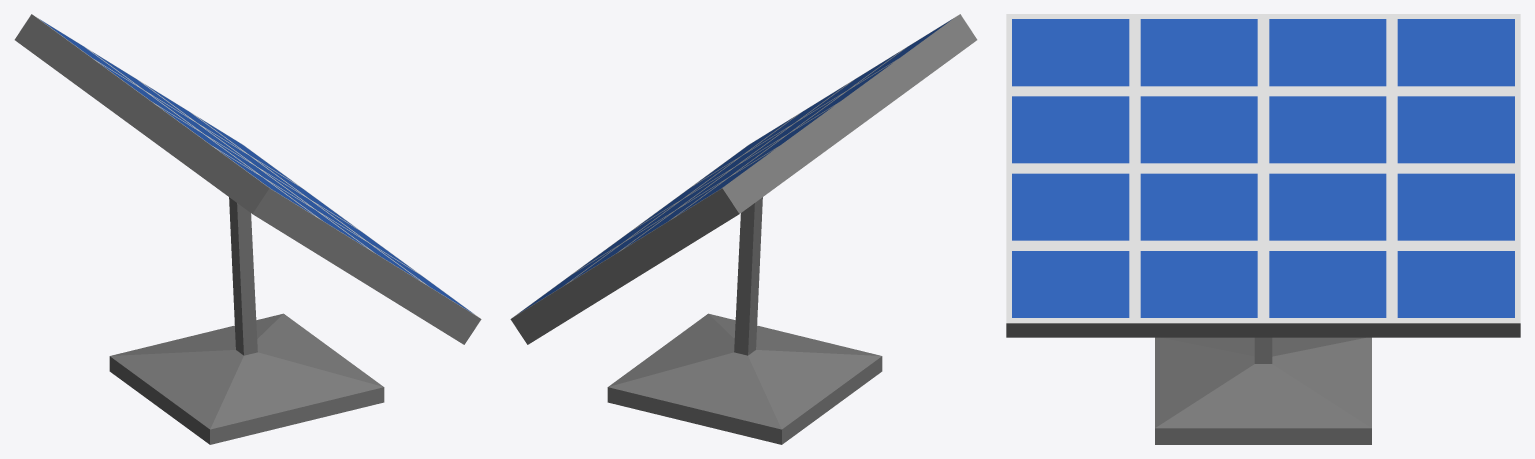
File: Solar panel.fbx
3 views of the same model, side by side, from view 1: azimuth 30°, elevation 25°; view 2: azimuth 150°, elevation 25°; view 3: azimuth 270°, elevation 25° (orthographic). The views are drawn at different scales.
Visible parts, largest first — view 1: Solar_panel; view 2: Solar_panel; view 3: Solar_panel.
Boxes of the visible parts, left/top/right/bottom form: Solar_panel: left=14, top=14, right=481, bottom=444; Solar_panel: left=510, top=14, right=977, bottom=444; Solar_panel: left=1006, top=14, right=1520, bottom=444.
Bounding box in the file's own units: 528 × 682 × 950.
